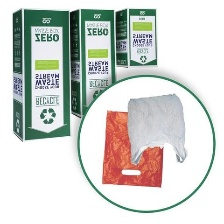plastic_bag: (97, 103, 173, 193), (125, 90, 195, 168)
